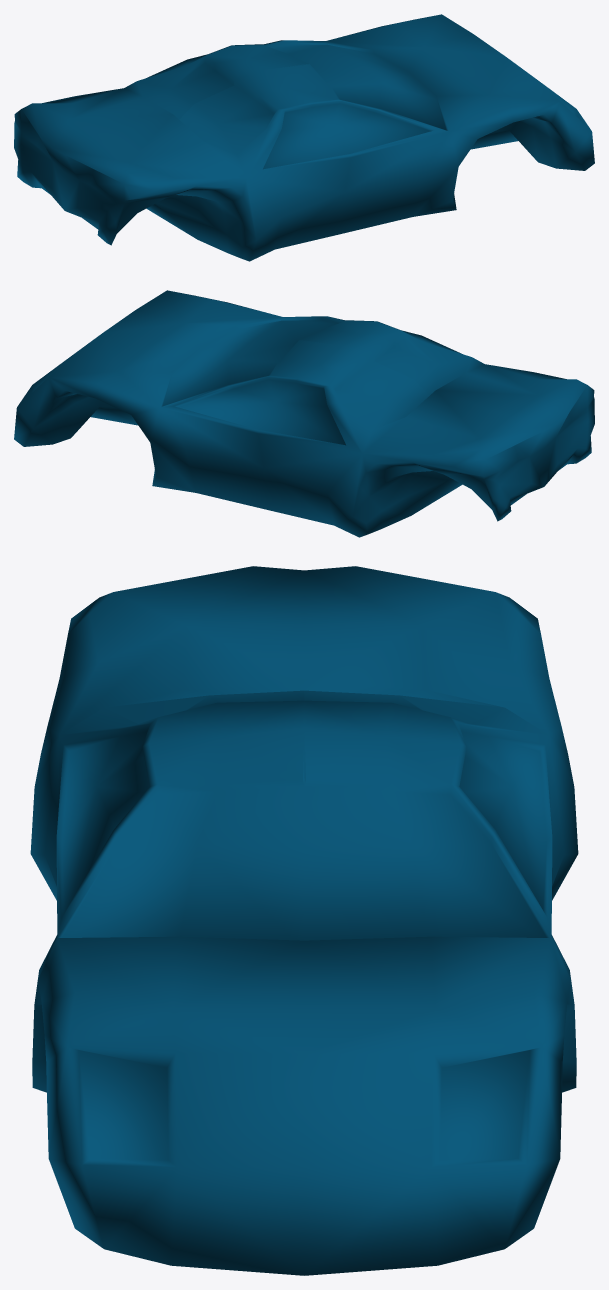
The model's file is carbody.fbx.
3 renders of one model, top to bottom at view 1: azimuth 30°, elevation 25°; view 2: azimuth 150°, elevation 25°; view 3: azimuth 270°, elevation 25°, orthographic. The views are drawn at different scales.
Visible parts, largest first — view 1: Cube; view 2: Cube; view 3: Cube.
Boxes of the visible parts, box(x1,y1,x2,y2) form: Cube: box(14, 14, 594, 261); Cube: box(14, 290, 594, 537); Cube: box(30, 566, 578, 1275).
Size of the model in its own units: 5.28 by 1.28 by 2.41.
